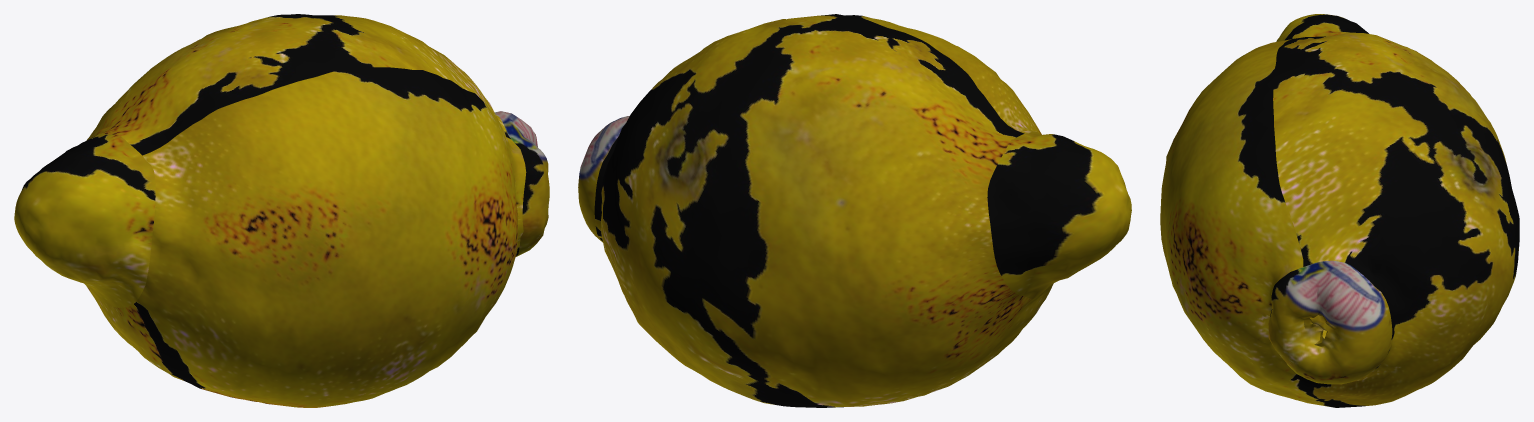
3 renders of one model, left to right at view 1: azimuth 30°, elevation 25°; view 2: azimuth 150°, elevation 25°; view 3: azimuth 270°, elevation 25°, orthographic. The views are drawn at different scales.
Bounding box in the file's own units: 1 × 0.6507 × 0.6592.
